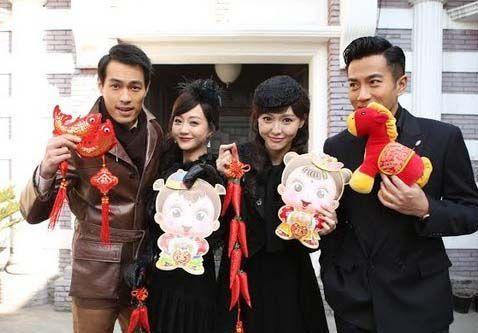face: (347, 57, 397, 114), (101, 66, 146, 120), (170, 106, 210, 149), (258, 106, 299, 146)
